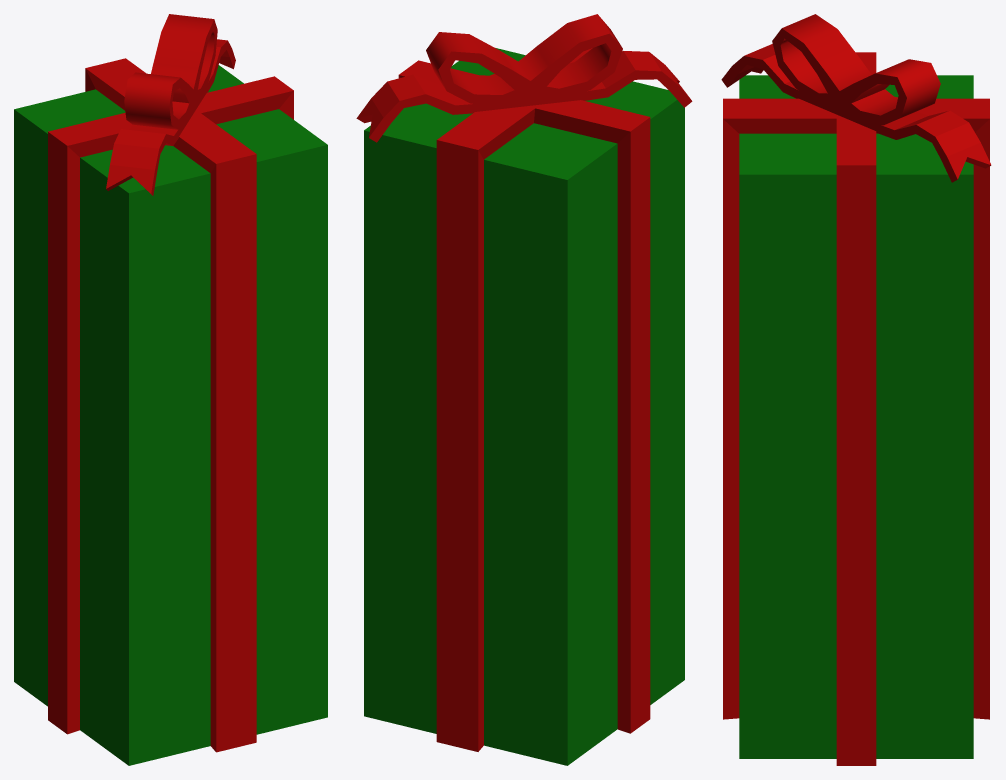
Rendered from Presents6.fbx.
The picture shows the model from 3 angles, left to right: view 1: azimuth 30°, elevation 25°; view 2: azimuth 150°, elevation 25°; view 3: azimuth 270°, elevation 25°; orthographic projection. The views are drawn at different scales.
Visible parts, largest first — view 1: Present6; view 2: Present6; view 3: Present6.
Boxes of the visible parts, bbox=[...] form: Present6: bbox=[14, 14, 327, 765]; Present6: bbox=[356, 14, 692, 765]; Present6: bbox=[721, 14, 991, 765].
Size of the model in its own units: 46.08 by 125 by 46.08.
